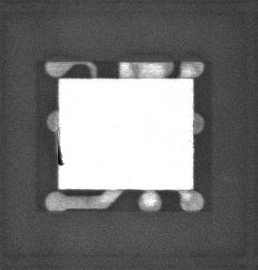DIE_BROKEN: (56, 142, 64, 167)
